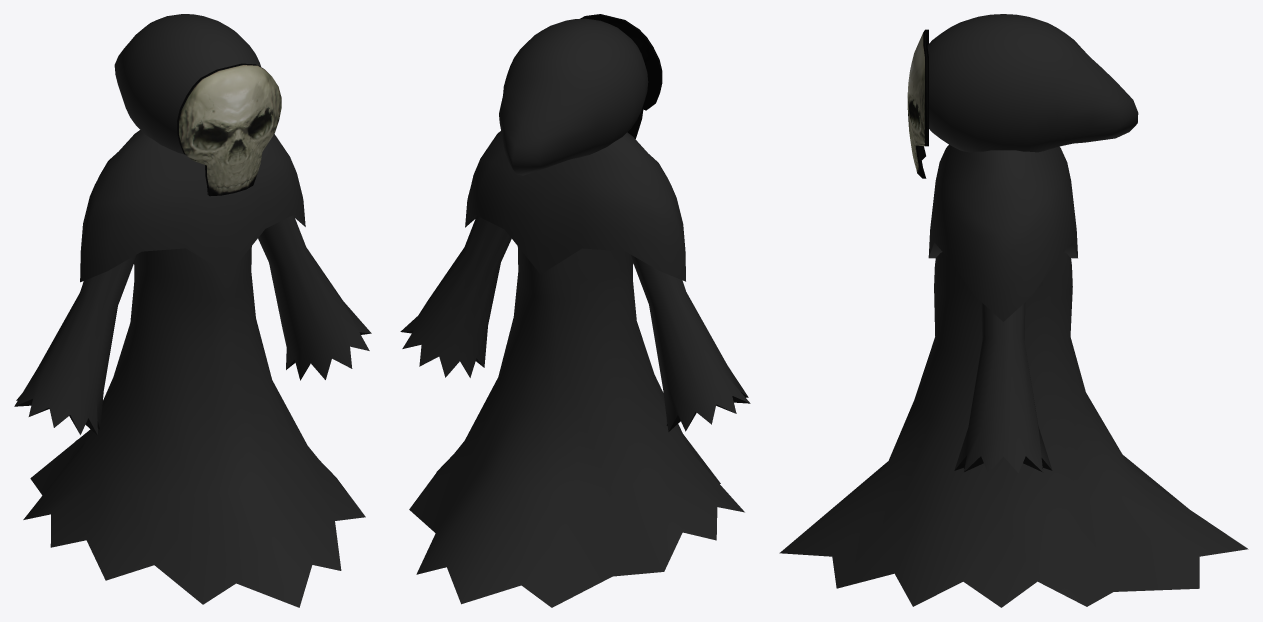
The model's file is Death.fbx.
3 renders of one model, left to right at view 1: azimuth 30°, elevation 25°; view 2: azimuth 150°, elevation 25°; view 3: azimuth 270°, elevation 25°, orthographic. The views are drawn at different scales.
Visible parts, largest first — view 1: polySurface9; view 2: polySurface9; view 3: polySurface9.
Boxes of the visible parts, box(x1,y1,x2,y2) form: polySurface9: box(14, 14, 371, 607); polySurface9: box(400, 14, 750, 607); polySurface9: box(779, 14, 1248, 607).
Bounding box in the file's own units: 1.29 × 1.82 × 1.45.
1 material, 1 textured.
